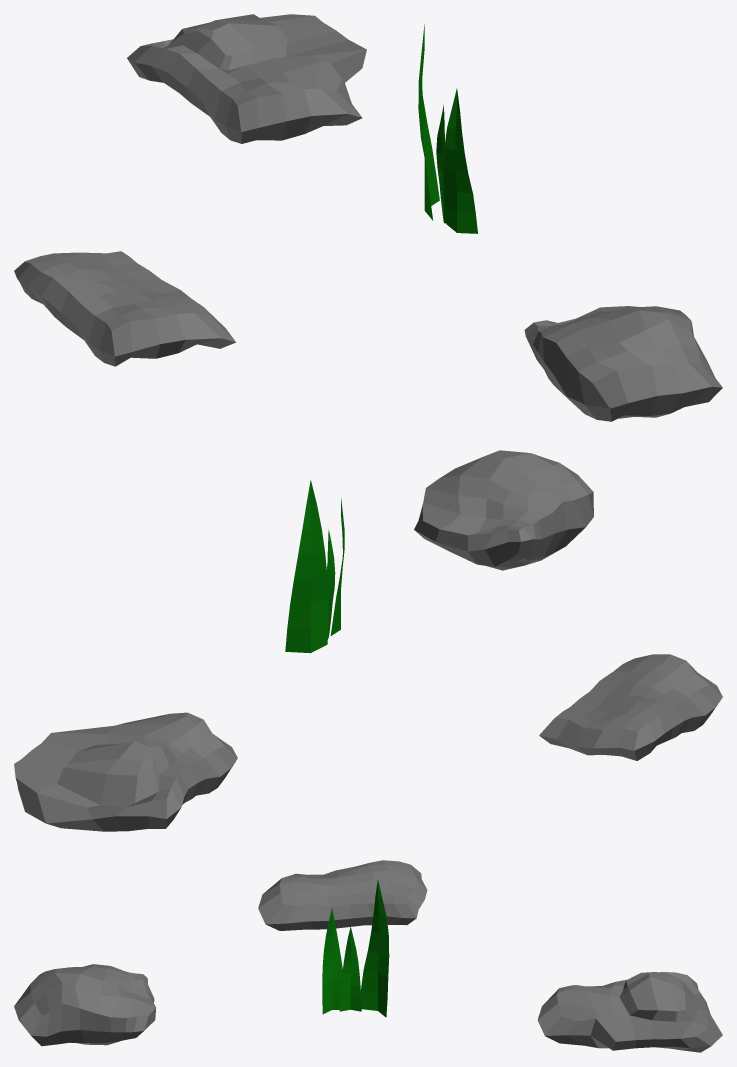
Rendered from Grass.fbx.
3 views of the same model, one above another, from view 1: azimuth 30°, elevation 25°; view 2: azimuth 150°, elevation 25°; view 3: azimuth 270°, elevation 25° (orthographic). The views are drawn at different scales.
Parts seen in each view (by area): view 1: Cube.002, Cube.001, Cube, Plane.001; view 2: Cube.002, Cube.001, Cube, Plane.001; view 3: Cube.002, Cube.001, Cube, Plane.001.
Boxes of the visible parts, bbox=[...] form: Cube.002: bbox=[127, 14, 366, 143]; Cube.001: bbox=[524, 306, 722, 421]; Cube: bbox=[14, 251, 235, 366]; Plane.001: bbox=[418, 24, 477, 233]; Cube.002: bbox=[14, 712, 237, 831]; Cube.001: bbox=[414, 450, 593, 570]; Cube: bbox=[539, 654, 722, 760]; Plane.001: bbox=[285, 480, 344, 653]; Cube.002: bbox=[537, 972, 722, 1052]; Cube.001: bbox=[14, 964, 156, 1046]; Cube: bbox=[258, 860, 427, 930]; Plane.001: bbox=[322, 880, 389, 1017].
Bounding box in the file's own units: 706 × 315 × 1229.
